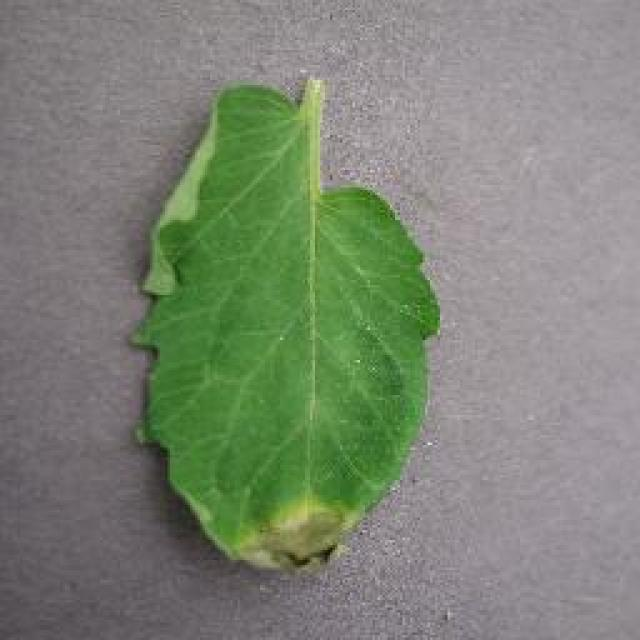Tomato Late Blight: (215, 448, 377, 617)
